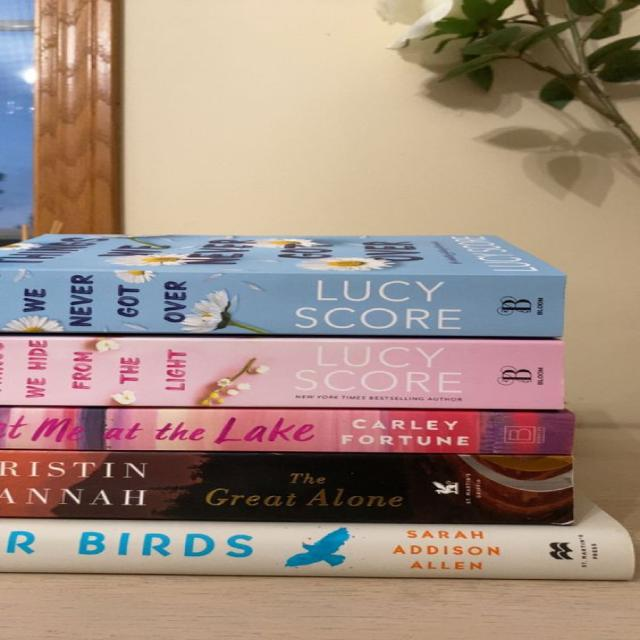book: (1, 336, 566, 410), (2, 450, 578, 520), (0, 268, 571, 336), (0, 522, 628, 579), (0, 406, 572, 453)
